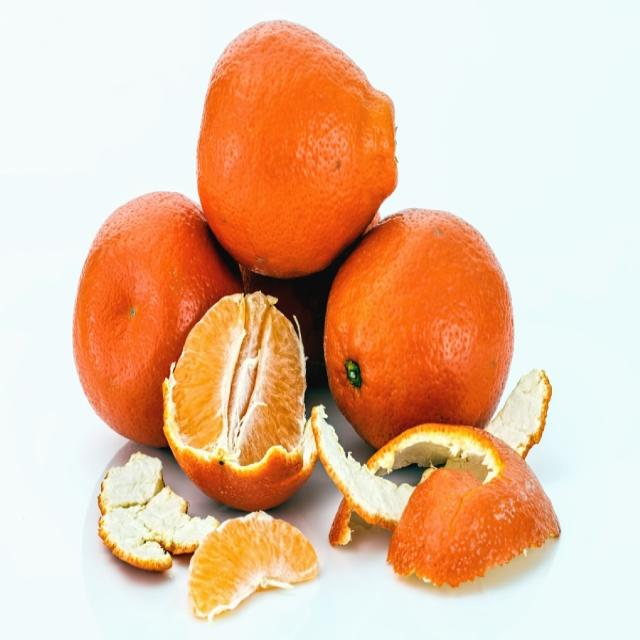orange: (200, 19, 404, 271), (63, 204, 210, 440)
